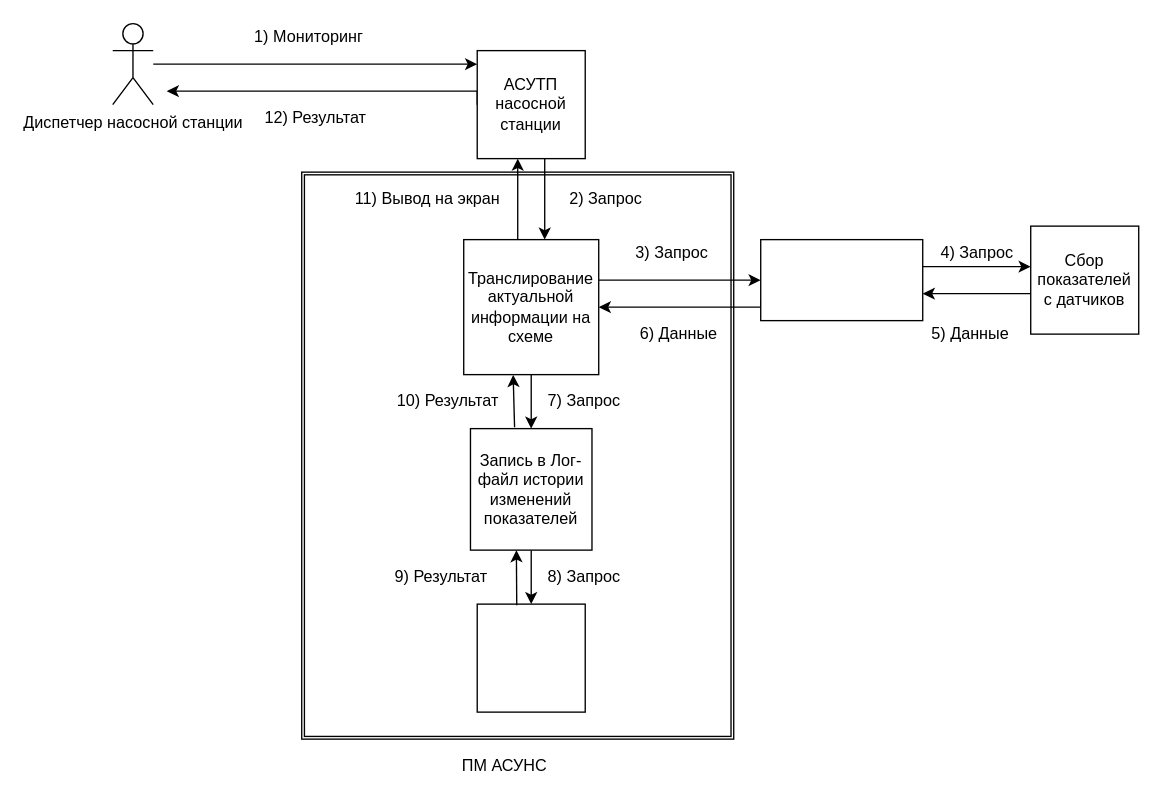
This 1162x803 diagram has some shape labels left out. The centre of each missing label's shape, as x and y in pixels:
Контроллер: the point at 841,279
Сохранение/обновление данных в БД: the point at 530,657
